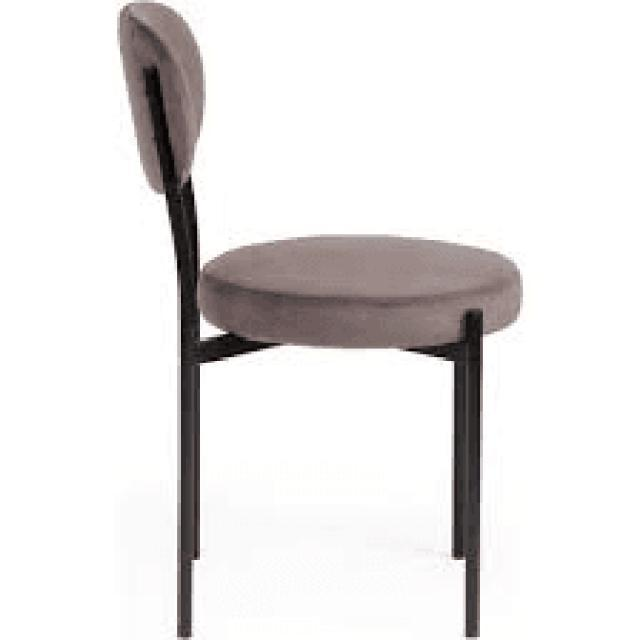chair: (108, 0, 526, 640), (135, 0, 530, 339)
